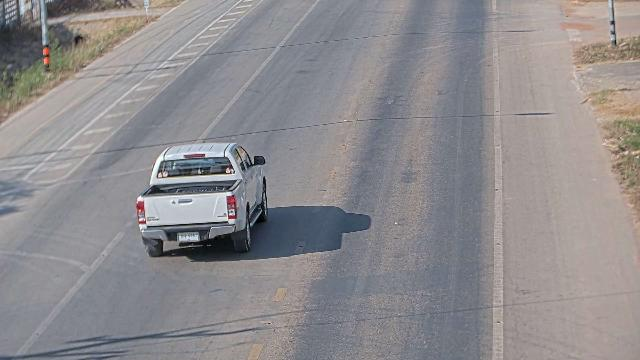pickup-truck: (135, 140, 268, 257)
